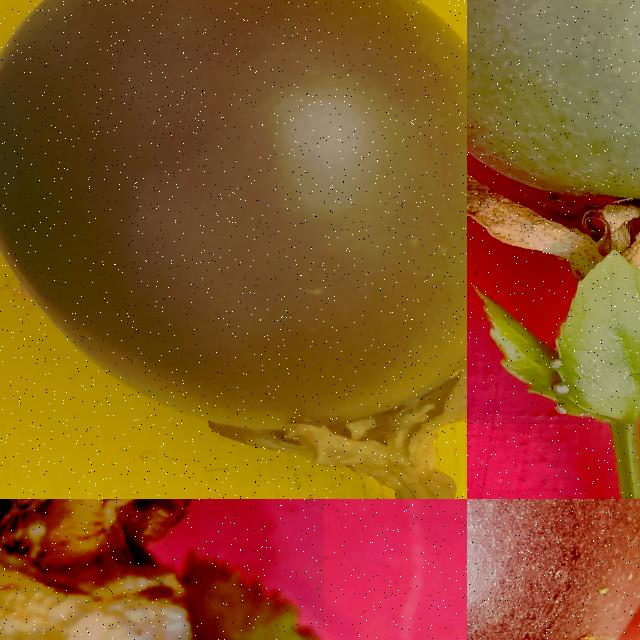Estado-6: (0, 0, 467, 499), (467, 499, 640, 640)
